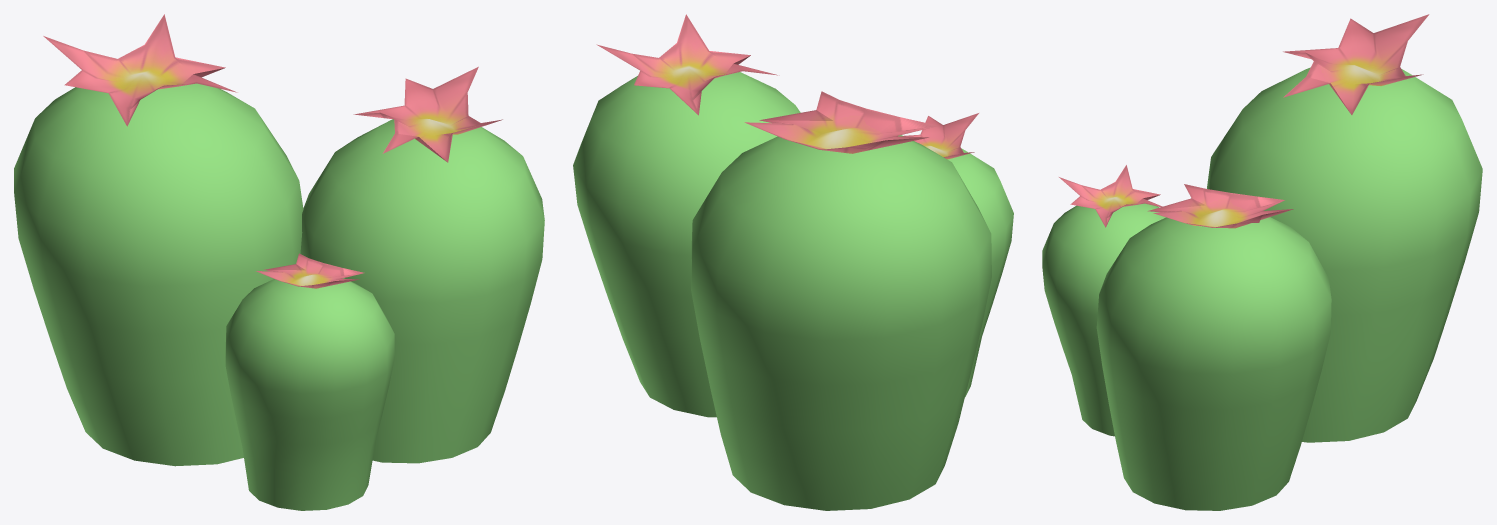
Rendered from Small cactus.fbx.
3 renders of one model, left to right at view 1: azimuth 30°, elevation 25°; view 2: azimuth 150°, elevation 25°; view 3: azimuth 270°, elevation 25°, orthographic. The views are drawn at different scales.
Visible parts, largest first — view 1: Sphere002; view 2: Sphere002; view 3: Sphere002.
Boxes of the visible parts, bbox=[...] form: Sphere002: bbox=[14, 14, 544, 510]; Sphere002: bbox=[573, 14, 1013, 510]; Sphere002: bbox=[1042, 14, 1482, 510].
Bounding box in the file's own units: 9.83 × 7.99 × 9.16.
